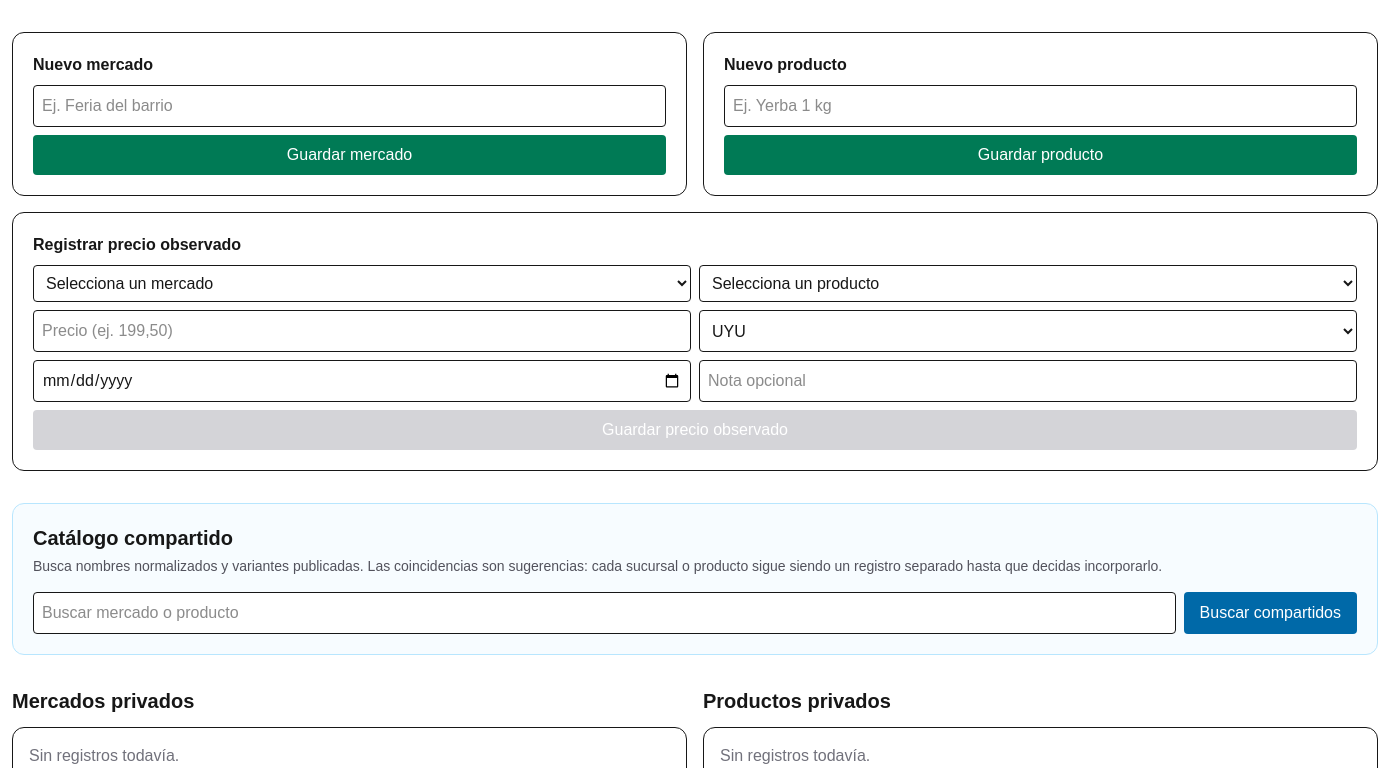
Test case: GroceryCatalogManager › searches shared aliases and explicitly adopts a suggestion into the private catalog
The image size is (1378, 768).
Type "cañarias" into the field with placeholder "Buscar mercado o producto".
click(604, 613); type("cañarias")  # box x1=33 y1=592 x2=1176 y2=634
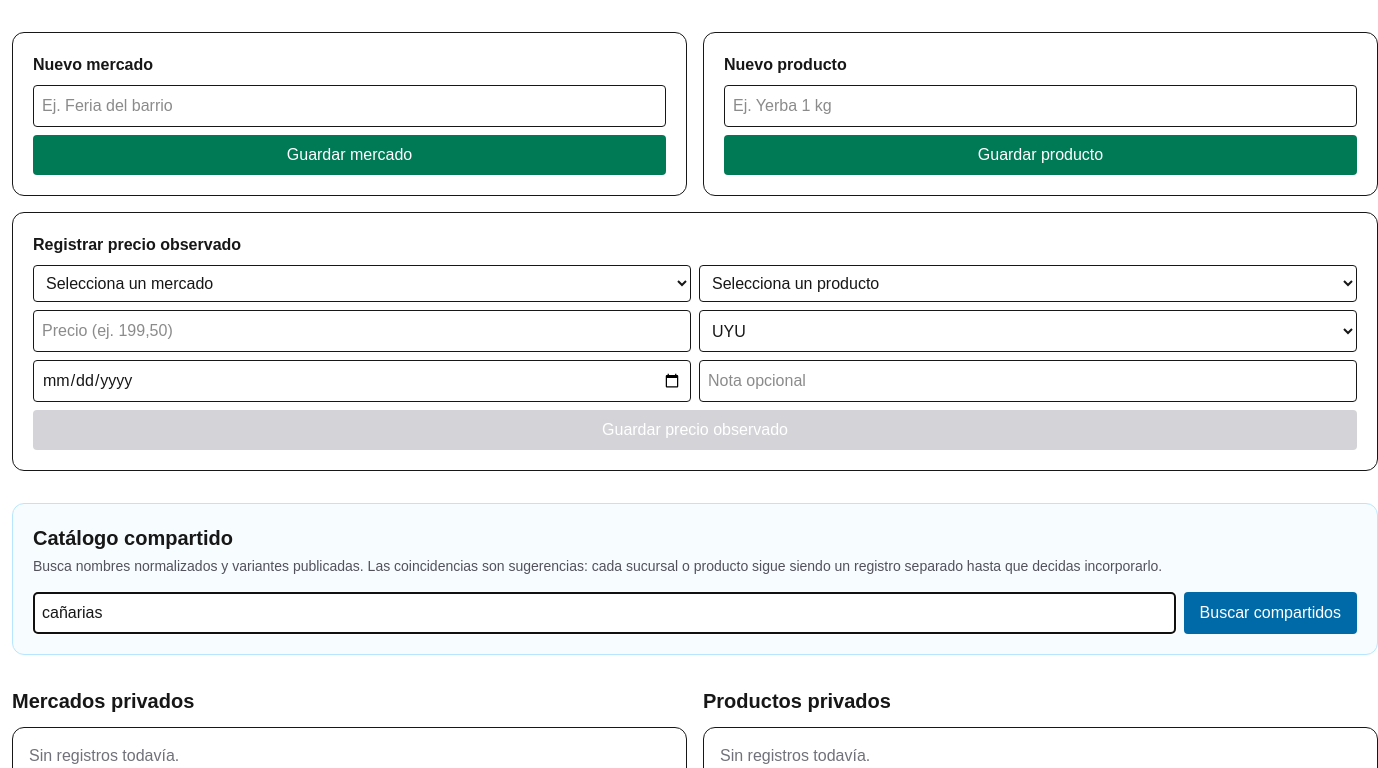
Click the button "Buscar compartidos".
click(1270, 613)  # box x1=1184 y1=592 x2=1357 y2=634
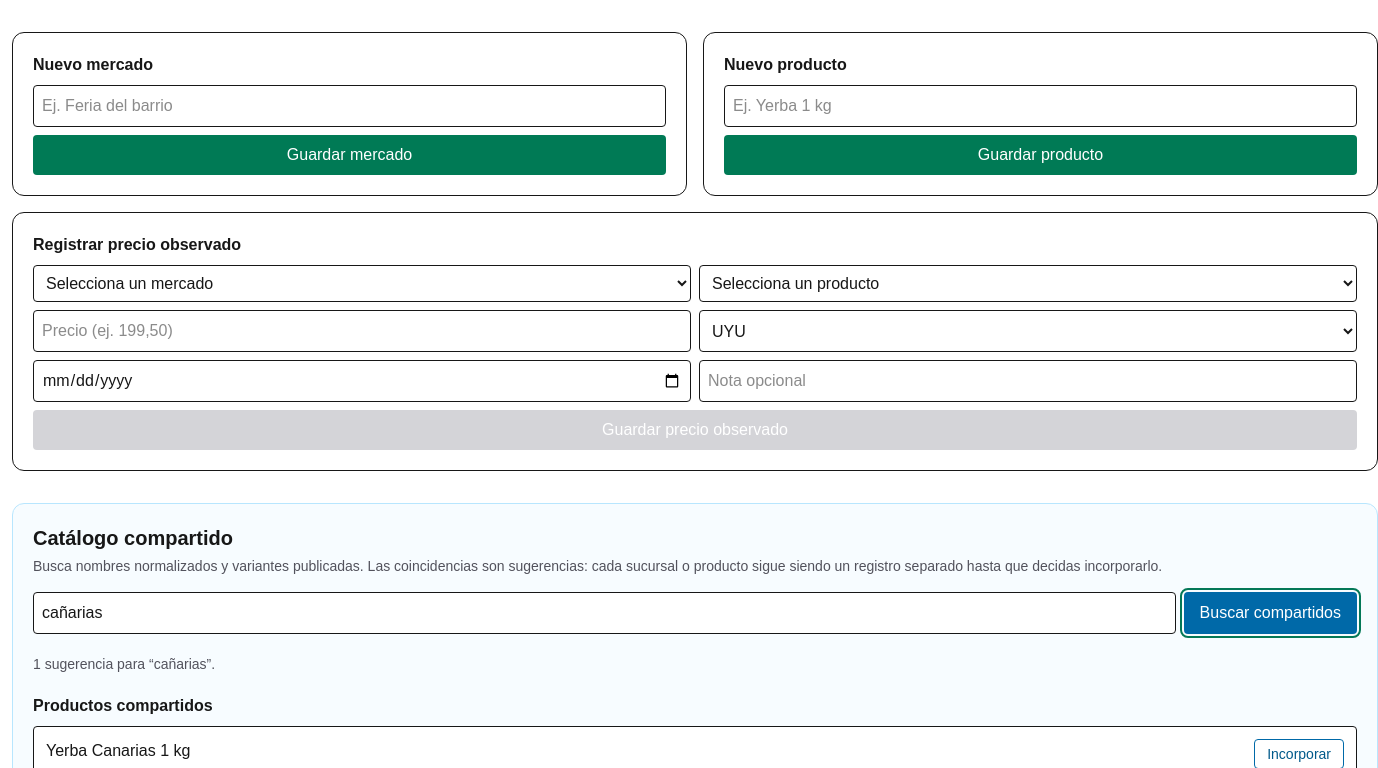
Click the button "Incorporar".
click(1299, 754)  # box x1=1254 y1=739 x2=1344 y2=767
(page scrolled)
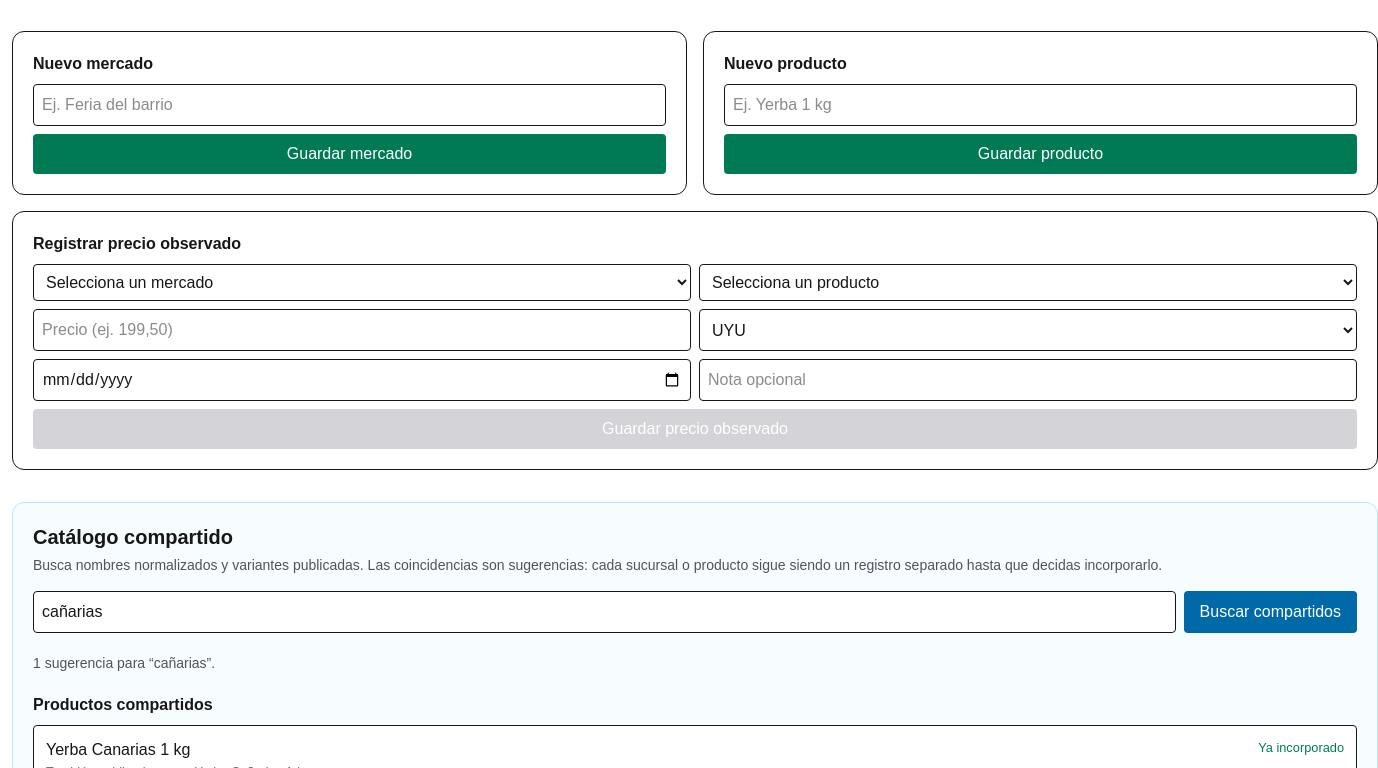
Expected: the text "Ya incorporado" is shown, x1=1258 y1=738 x2=1344 y2=757
